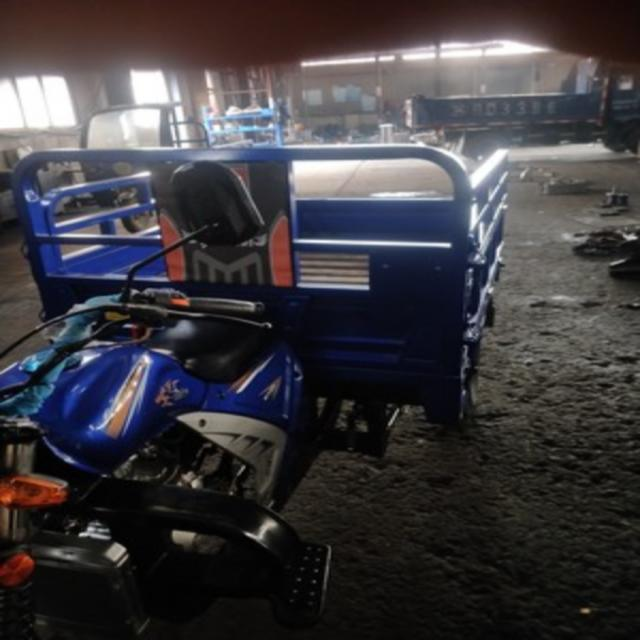tricycle: (2, 139, 508, 637)
truck: (397, 54, 638, 158)
